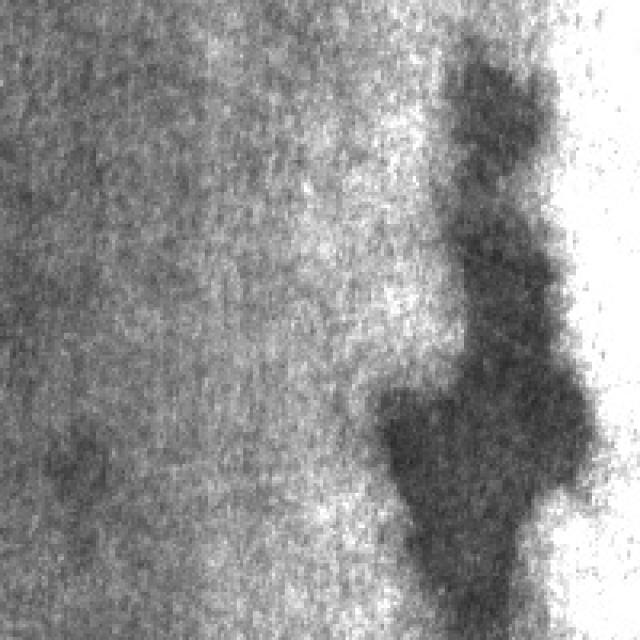patches: (378, 170, 595, 634), (429, 29, 557, 269)
